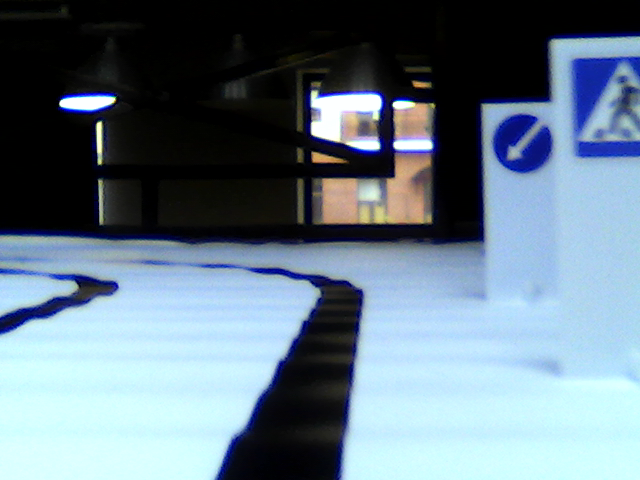pesh: (566, 52, 639, 162)
